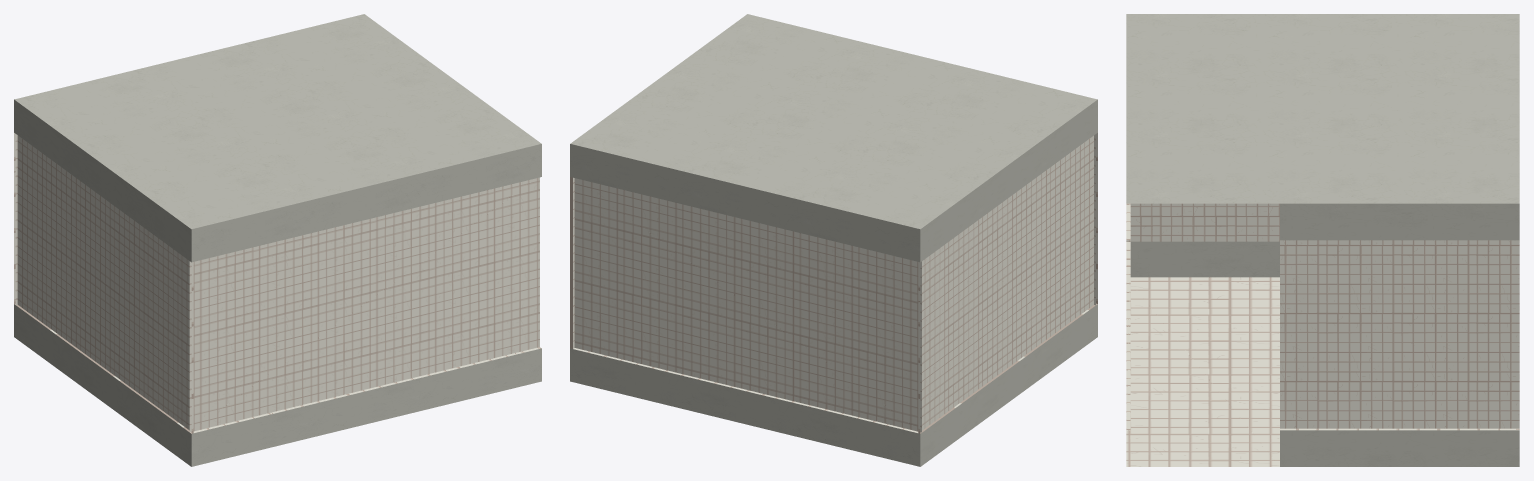
Rendered from bathroom.fbx.
The picture shows the model from 3 angles, left to right: view 1: azimuth 30°, elevation 25°; view 2: azimuth 150°, elevation 25°; view 3: azimuth 270°, elevation 25°; orthographic projection. The views are drawn at different scales.
Parts seen in each view (by area): view 1: bathroom:Cube; view 2: bathroom:Cube; view 3: bathroom:Cube.
Boxes of the visible parts, bbox=[...] form: bathroom:Cube: bbox=[14, 14, 541, 466]; bathroom:Cube: bbox=[570, 14, 1097, 466]; bathroom:Cube: bbox=[1126, 14, 1519, 466].
Bounding box in the file's own units: 9.29 × 6.02 × 8.15.
2 materials, 2 textured.
